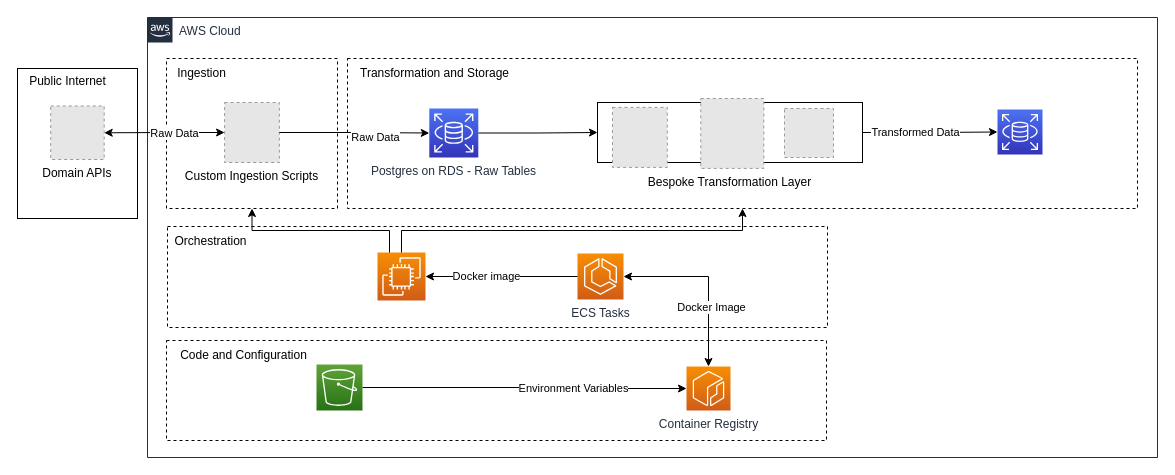
Image size: 1175x475. Some labels were removed from this diagram. Grey dashed boxes stand in for pictures. Each missing label, with the box of its shape:
EC2/ECS Cluster: (376, 252, 426, 300)
Postgres on RDS - Transformed Tables: (996, 108, 1042, 154)
S3 Bucket: (316, 364, 362, 410)
